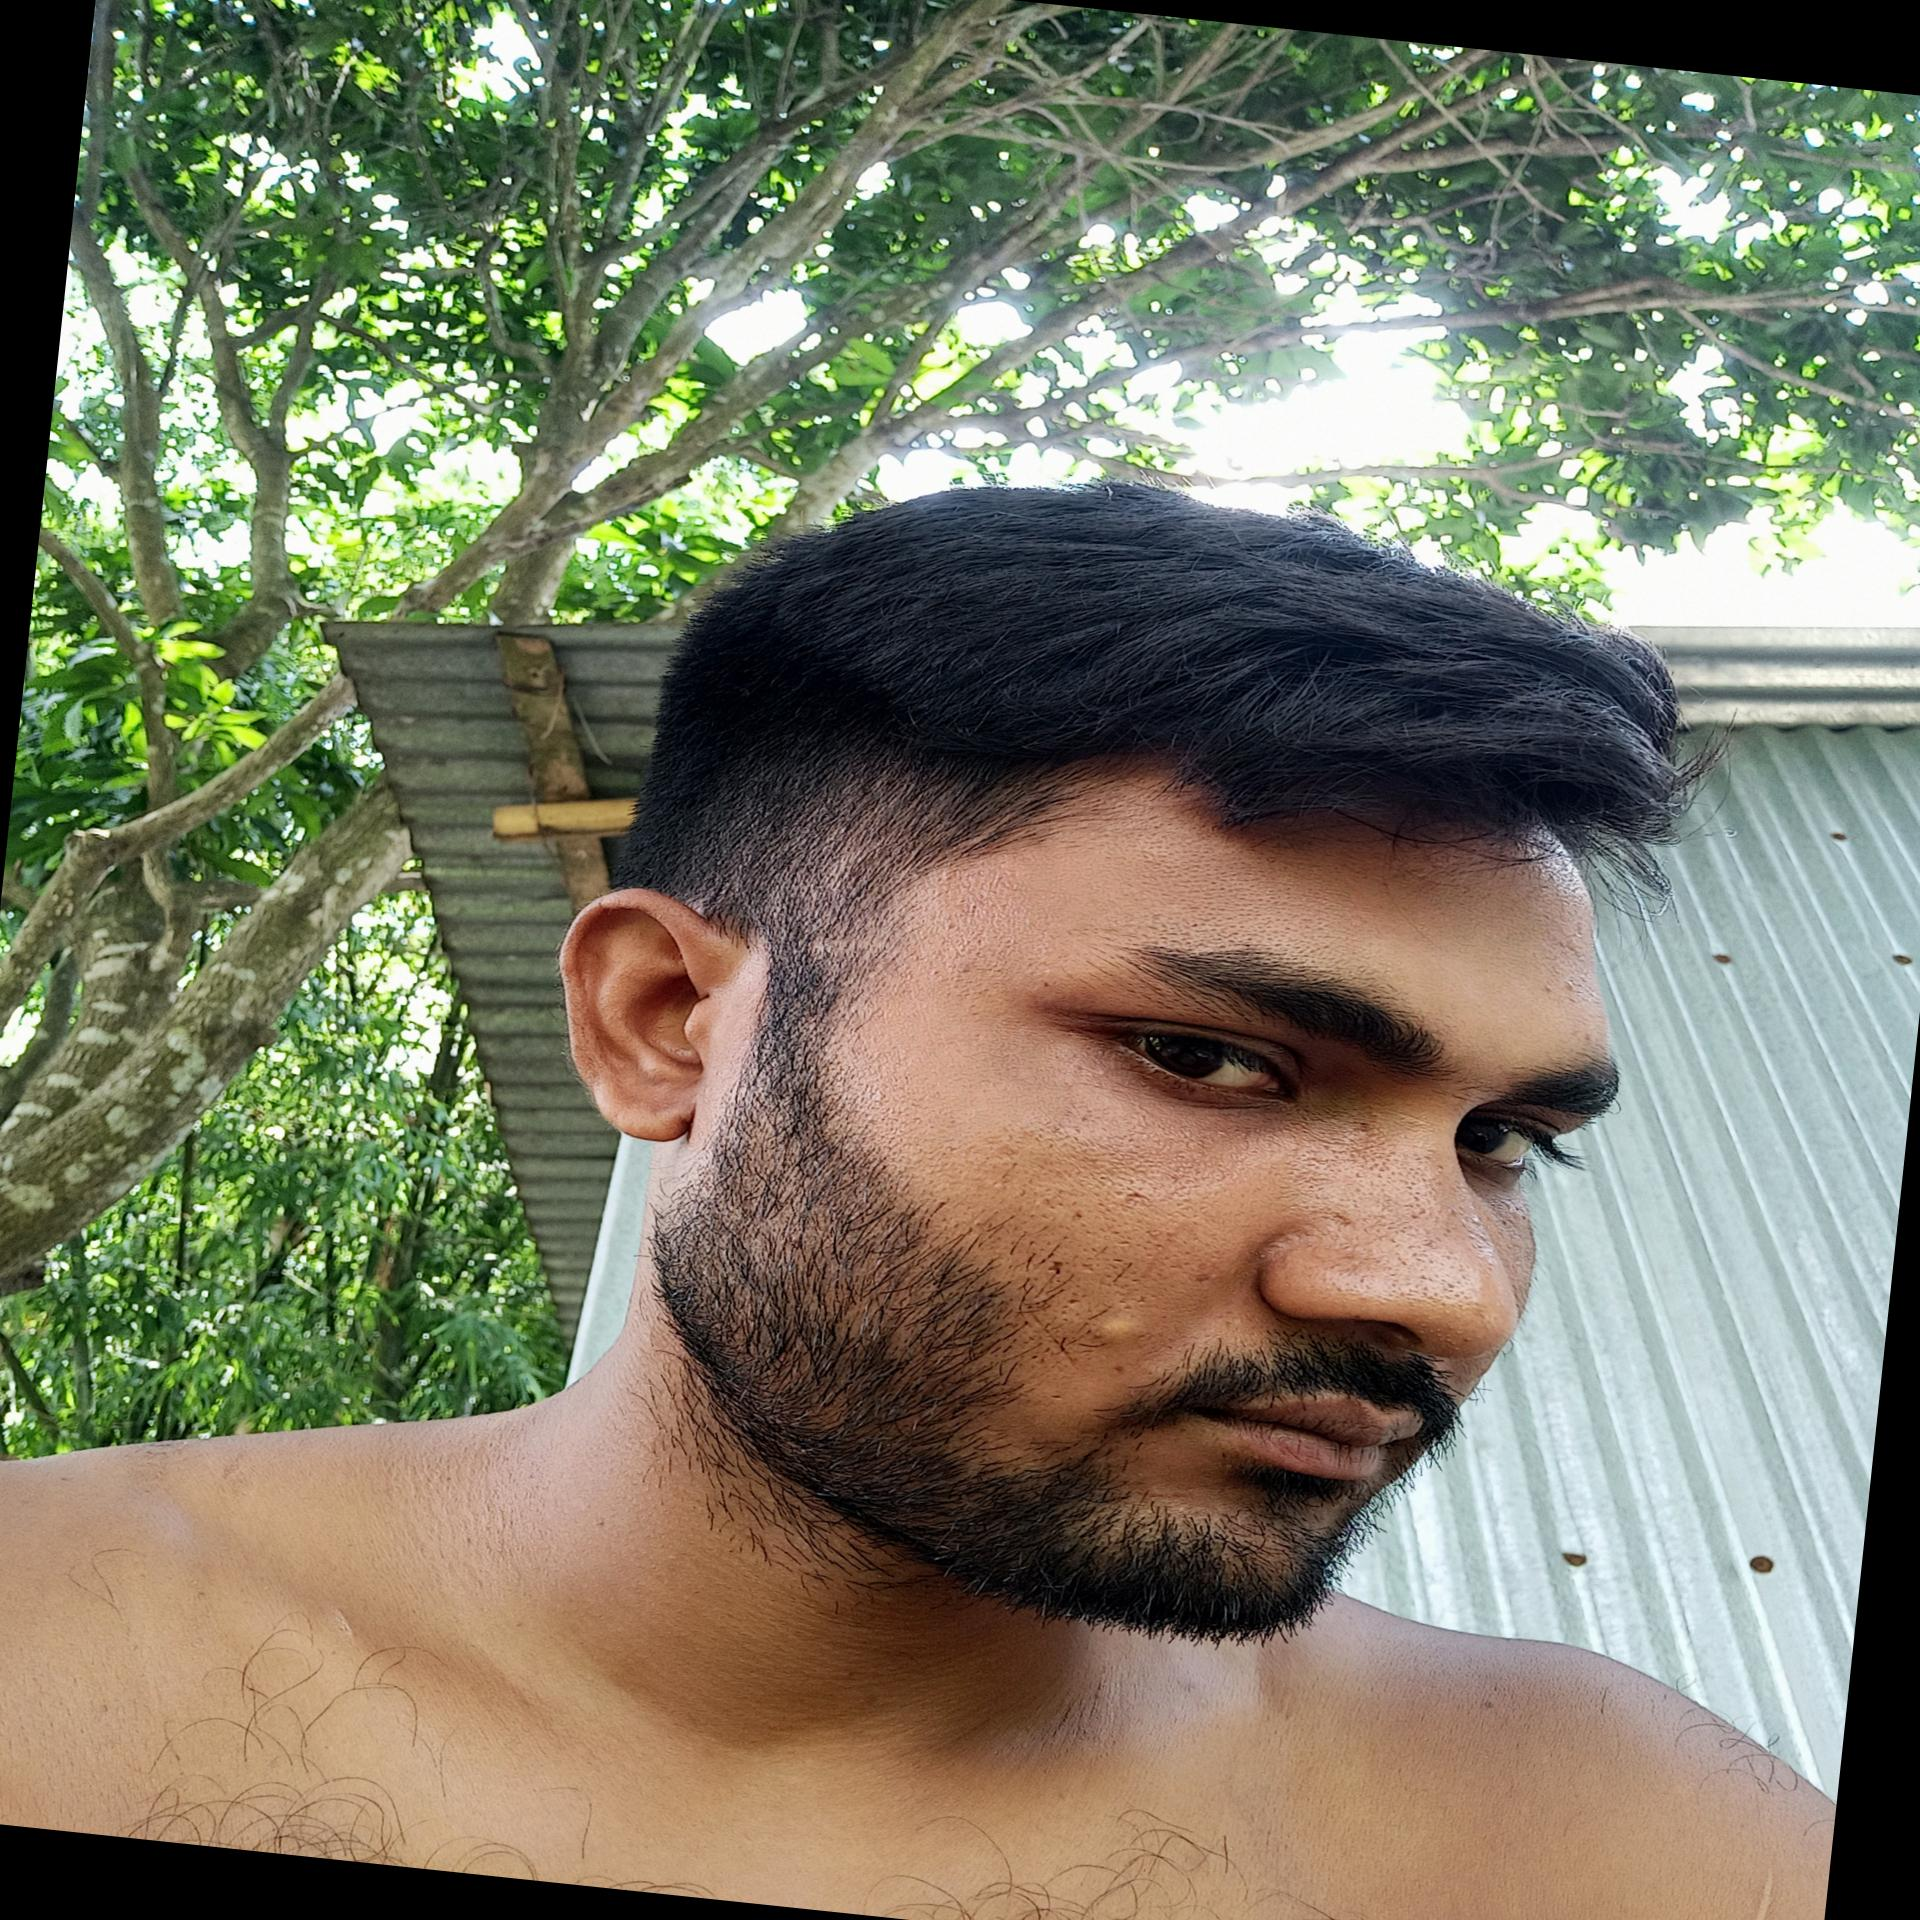Acne: (1087, 1306, 1148, 1359), (1537, 972, 1582, 997), (1109, 1363, 1131, 1377)
Englarged Pores: (960, 1111, 1215, 1331), (1275, 1139, 1461, 1306), (1134, 819, 1363, 951), (913, 867, 1053, 1000)
